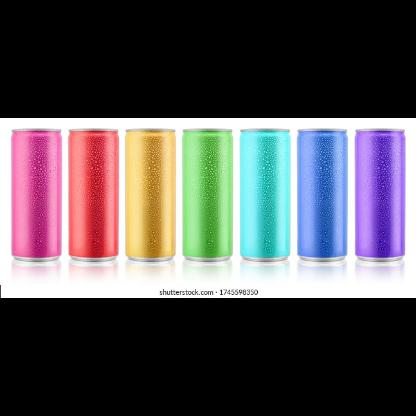Tin_Can: (238, 124, 296, 276), (8, 124, 66, 274), (64, 123, 122, 269), (180, 123, 236, 273), (123, 124, 179, 272), (294, 124, 350, 272), (354, 126, 408, 268)
